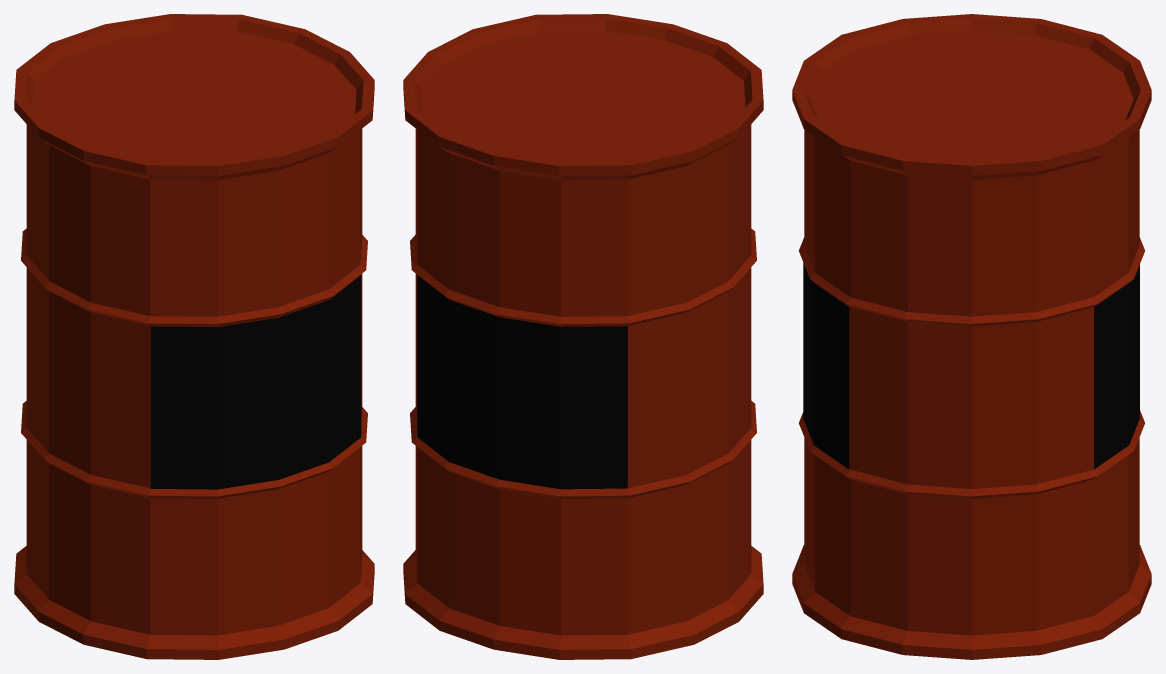
The model's file is FlamableBarrel.fbx.
3 views of the same model, side by side, from view 1: azimuth 30°, elevation 25°; view 2: azimuth 150°, elevation 25°; view 3: azimuth 270°, elevation 25° (orthographic).
Parts seen in each view (by area): view 1: FlamableBarrel; view 2: FlamableBarrel; view 3: FlamableBarrel.
Part boxes in pixels (left/top/right/bottom): FlamableBarrel: left=14, top=14, right=374, bottom=659; FlamableBarrel: left=403, top=14, right=763, bottom=659; FlamableBarrel: left=792, top=14, right=1151, bottom=659.
Bounding box in the file's own units: 215 × 325 × 215.
